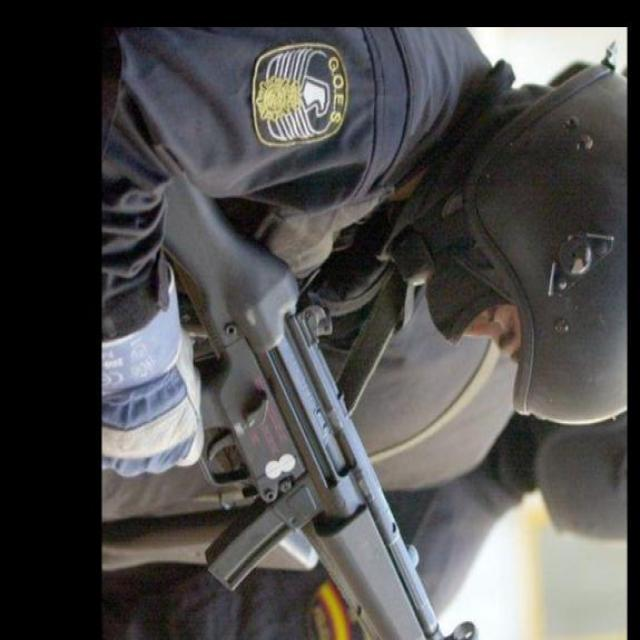weapon: (151, 170, 480, 640)
